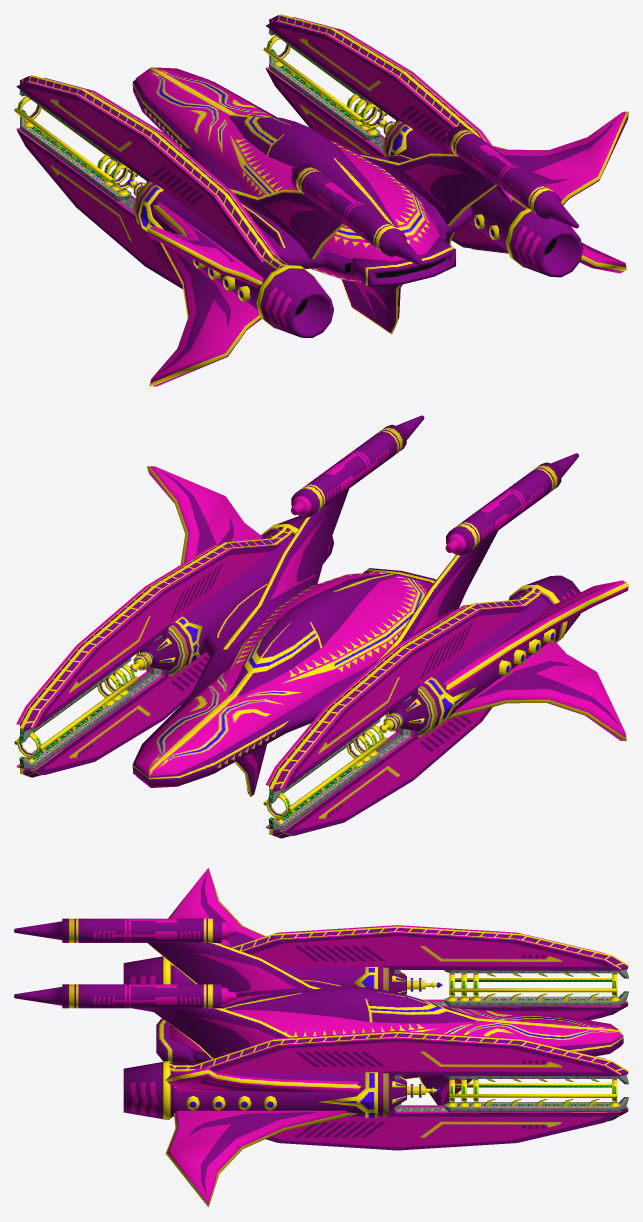
Rendered from AlienStarfighter6.obj.
The picture shows the model from 3 angles, top to bottom: view 1: azimuth 30°, elevation 25°; view 2: azimuth 150°, elevation 25°; view 3: azimuth 270°, elevation 25°; orthographic projection. The views are drawn at different scales.
Parts seen in each view (by area): view 1: Sphere.020_Sphere.023; view 2: Sphere.020_Sphere.023; view 3: Sphere.020_Sphere.023.
Part boxes in pixels (box(x1,y1,x2,y2)): Sphere.020_Sphere.023: box(14, 14, 628, 386); Sphere.020_Sphere.023: box(14, 415, 628, 838); Sphere.020_Sphere.023: box(14, 868, 628, 1206).
Bounding box in the file's own units: 6.19 × 2.34 × 7.88.
